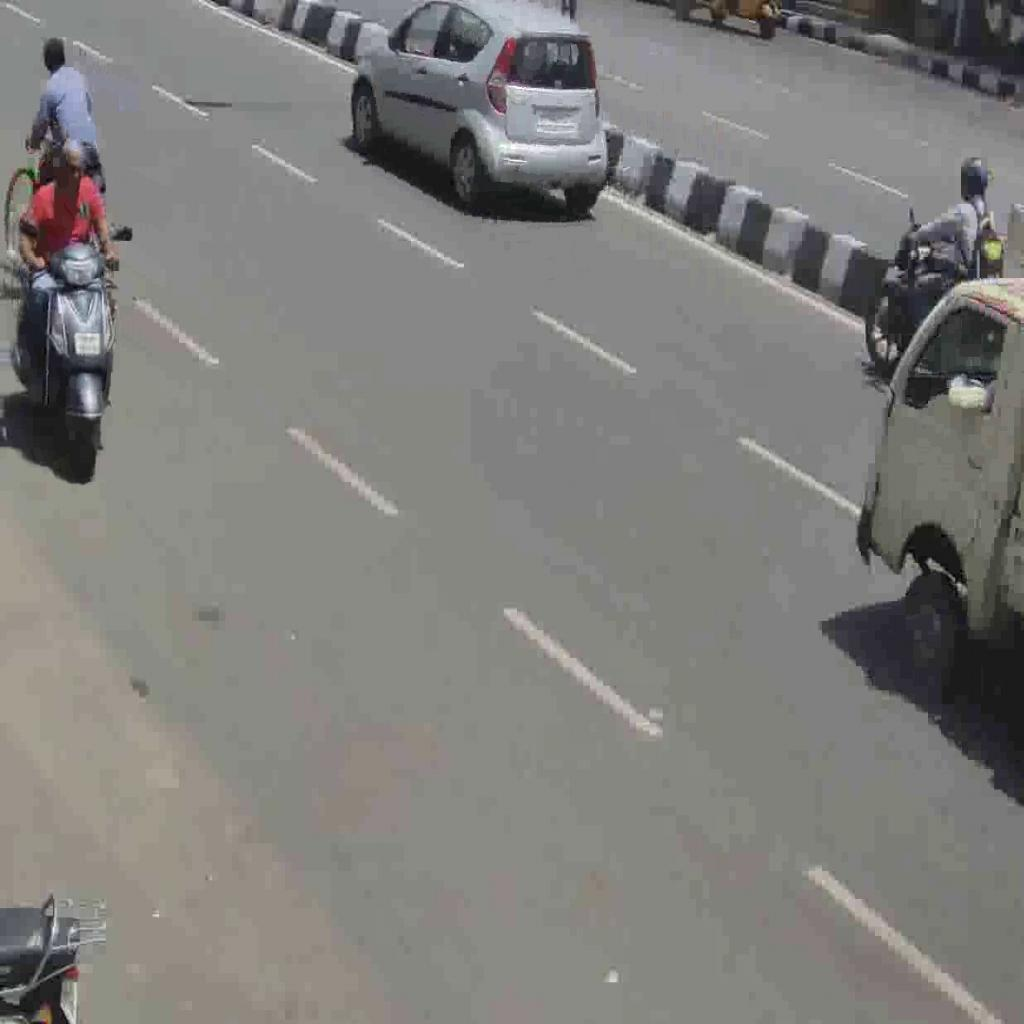helmet: (22, 242, 127, 428)
